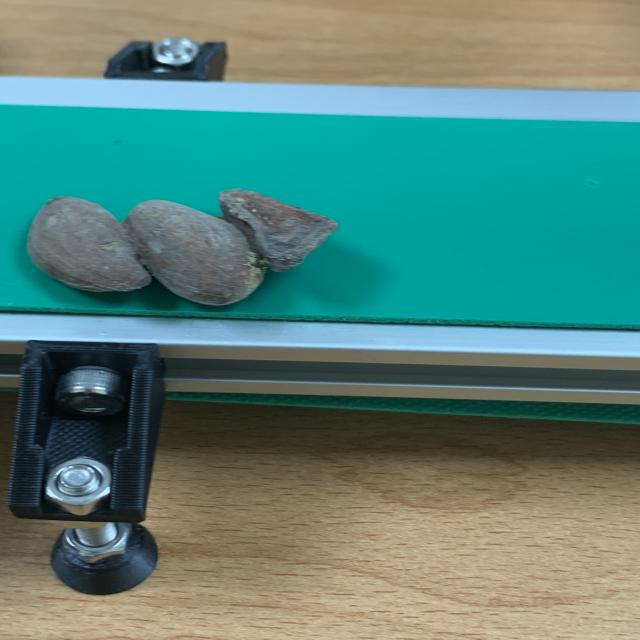Agglomerated_cocoabeans: (0, 179, 434, 335)
